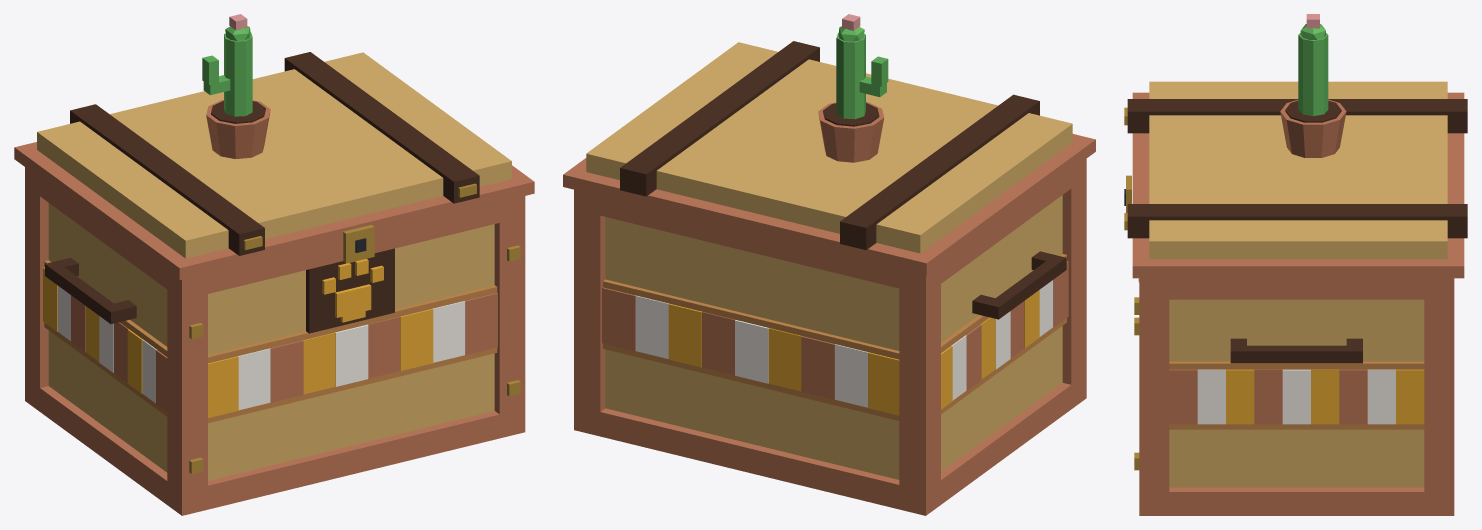
Rendered from CatCafe_Prop_Crate_Desert.glb.
3 renders of one model, left to right at view 1: azimuth 30°, elevation 25°; view 2: azimuth 150°, elevation 25°; view 3: azimuth 270°, elevation 25°, orthographic. The views are drawn at different scales.
Visible parts, largest first — view 1: CatCafe_Prop_Crate_Desert, CatCafe_Prop_Crate_Desert_Lid; view 2: CatCafe_Prop_Crate_Desert, CatCafe_Prop_Crate_Desert_Lid; view 3: CatCafe_Prop_Crate_Desert, CatCafe_Prop_Crate_Desert_Lid.
Part boxes in pixels (x1,y1,x2,y2): CatCafe_Prop_Crate_Desert: [25, 167, 525, 515]; CatCafe_Prop_Crate_Desert_Lid: [14, 14, 534, 279]; CatCafe_Prop_Crate_Desert: [574, 159, 1086, 515]; CatCafe_Prop_Crate_Desert_Lid: [563, 14, 1095, 275]; CatCafe_Prop_Crate_Desert: [1134, 278, 1454, 515]; CatCafe_Prop_Crate_Desert_Lid: [1124, 14, 1467, 278].
Bounding box in the file's own units: 2.76 × 2.67 × 2.07.
Materials: 1 (1 with a texture image).
